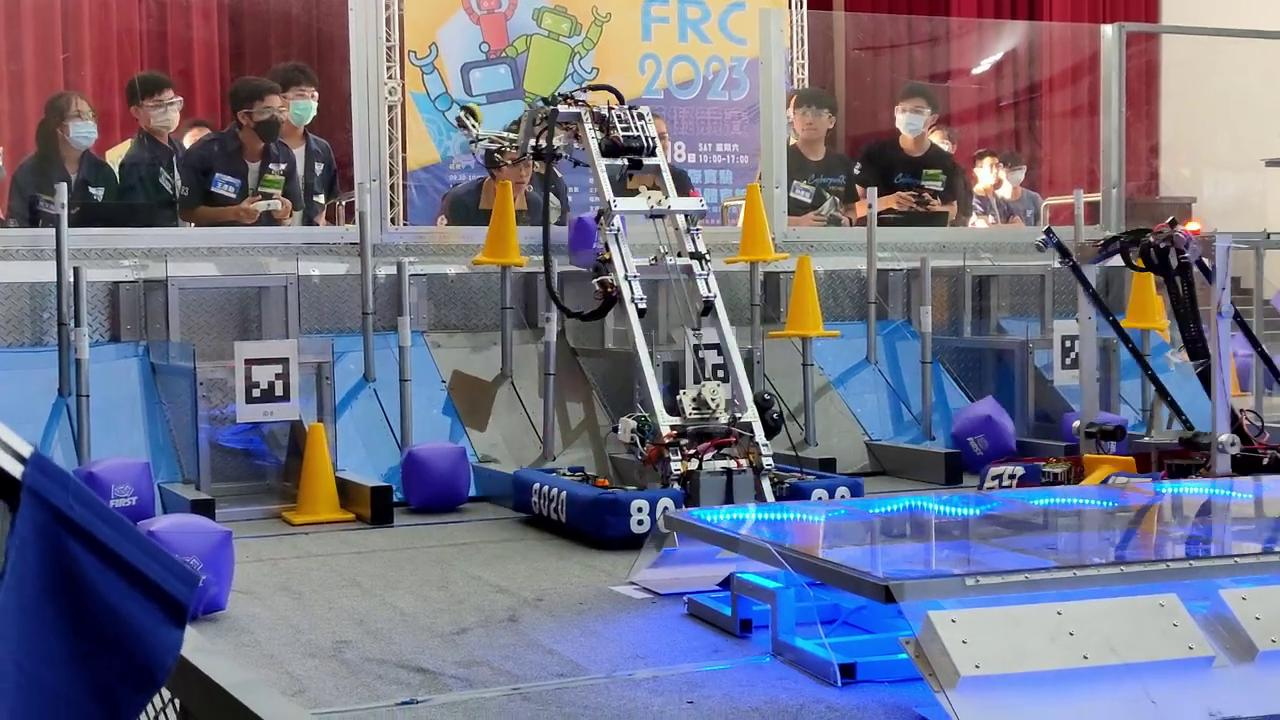robot: (484, 87, 851, 547), (978, 210, 1280, 491)
